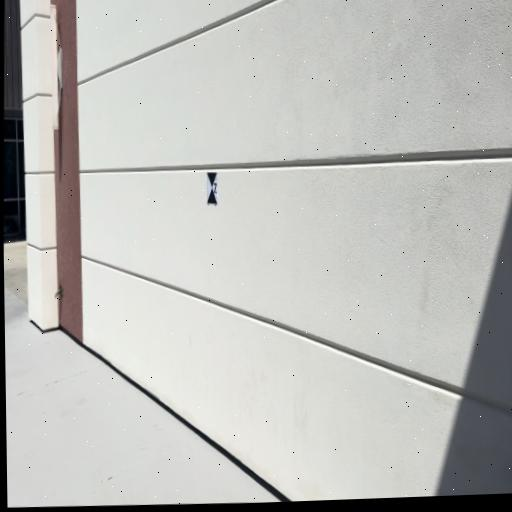target7: (207, 172, 219, 204)
